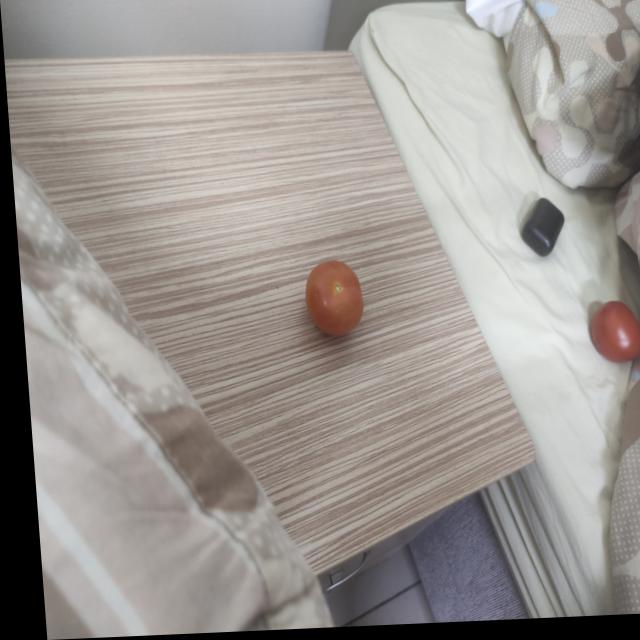sari: (291, 247, 375, 350)
